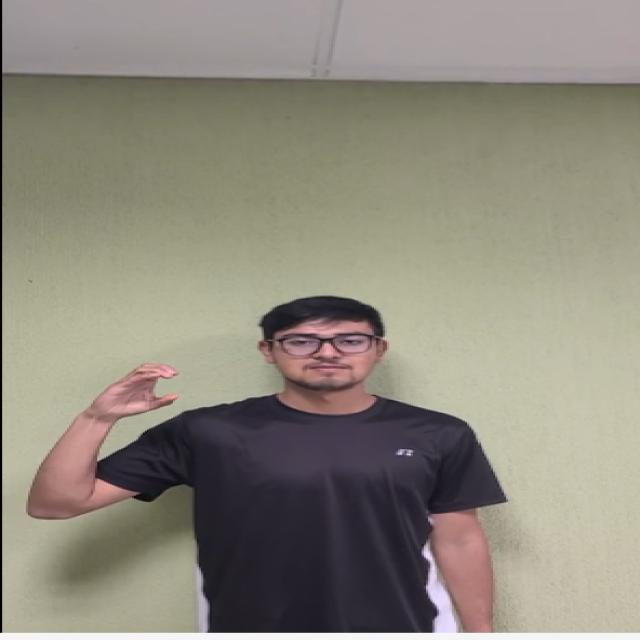C: (65, 353, 201, 429)
